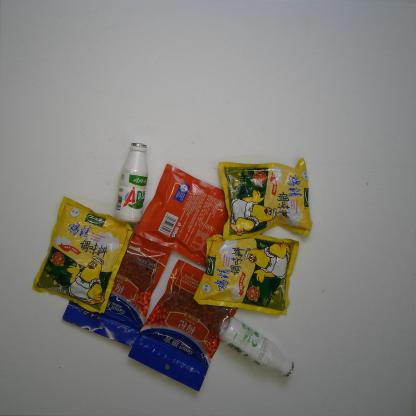Dried Fruit: (125, 257, 246, 395), (61, 222, 173, 346), (131, 164, 254, 269)
Milk: (216, 315, 298, 379), (109, 141, 149, 226)
Seasoner: (30, 195, 134, 317), (188, 232, 300, 316), (214, 156, 315, 242)
